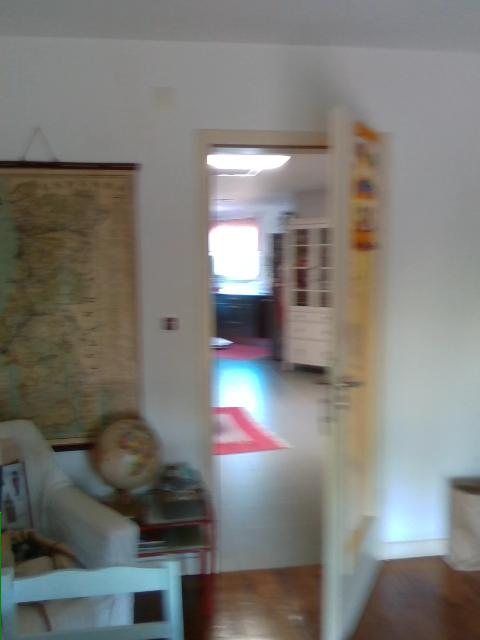semi_door: (192, 99, 385, 639)
